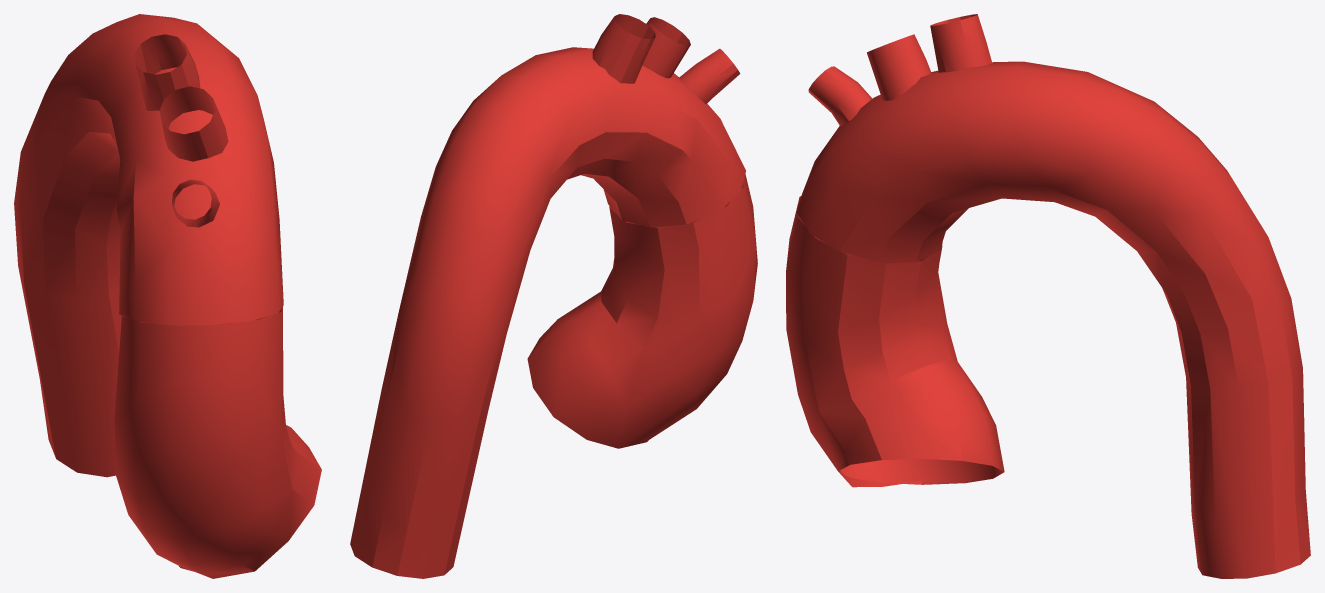
The model's file is arota.gltf.
3 views of the same model, side by side, from view 1: azimuth 30°, elevation 25°; view 2: azimuth 150°, elevation 25°; view 3: azimuth 270°, elevation 25° (orthographic). The views are drawn at different scales.
Visible parts, largest first — view 1: a1.001; view 2: a1.001; view 3: a1.001.
Part boxes in pixels (<box>): a1.001: <box>14,14,321,578</box>; a1.001: <box>350,14,757,578</box>; a1.001: <box>786,14,1310,578</box>.
Size of the model in its own units: 1.49 by 3.16 by 2.94.
